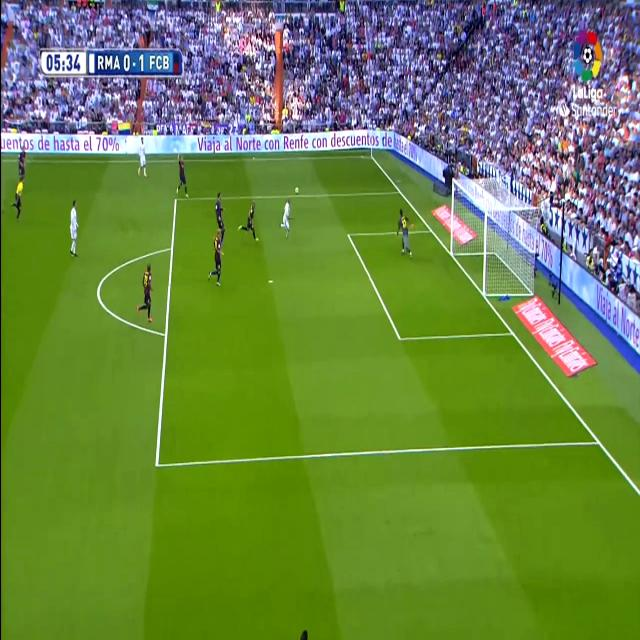bigarea_bottom_inner: (395, 326, 405, 350)
bigarea_top_outter: (396, 184, 402, 196)
corner: (366, 151, 374, 161)
smallarea_bottom_outter: (508, 321, 516, 342)
smallarea_top_outter: (427, 222, 434, 236)
